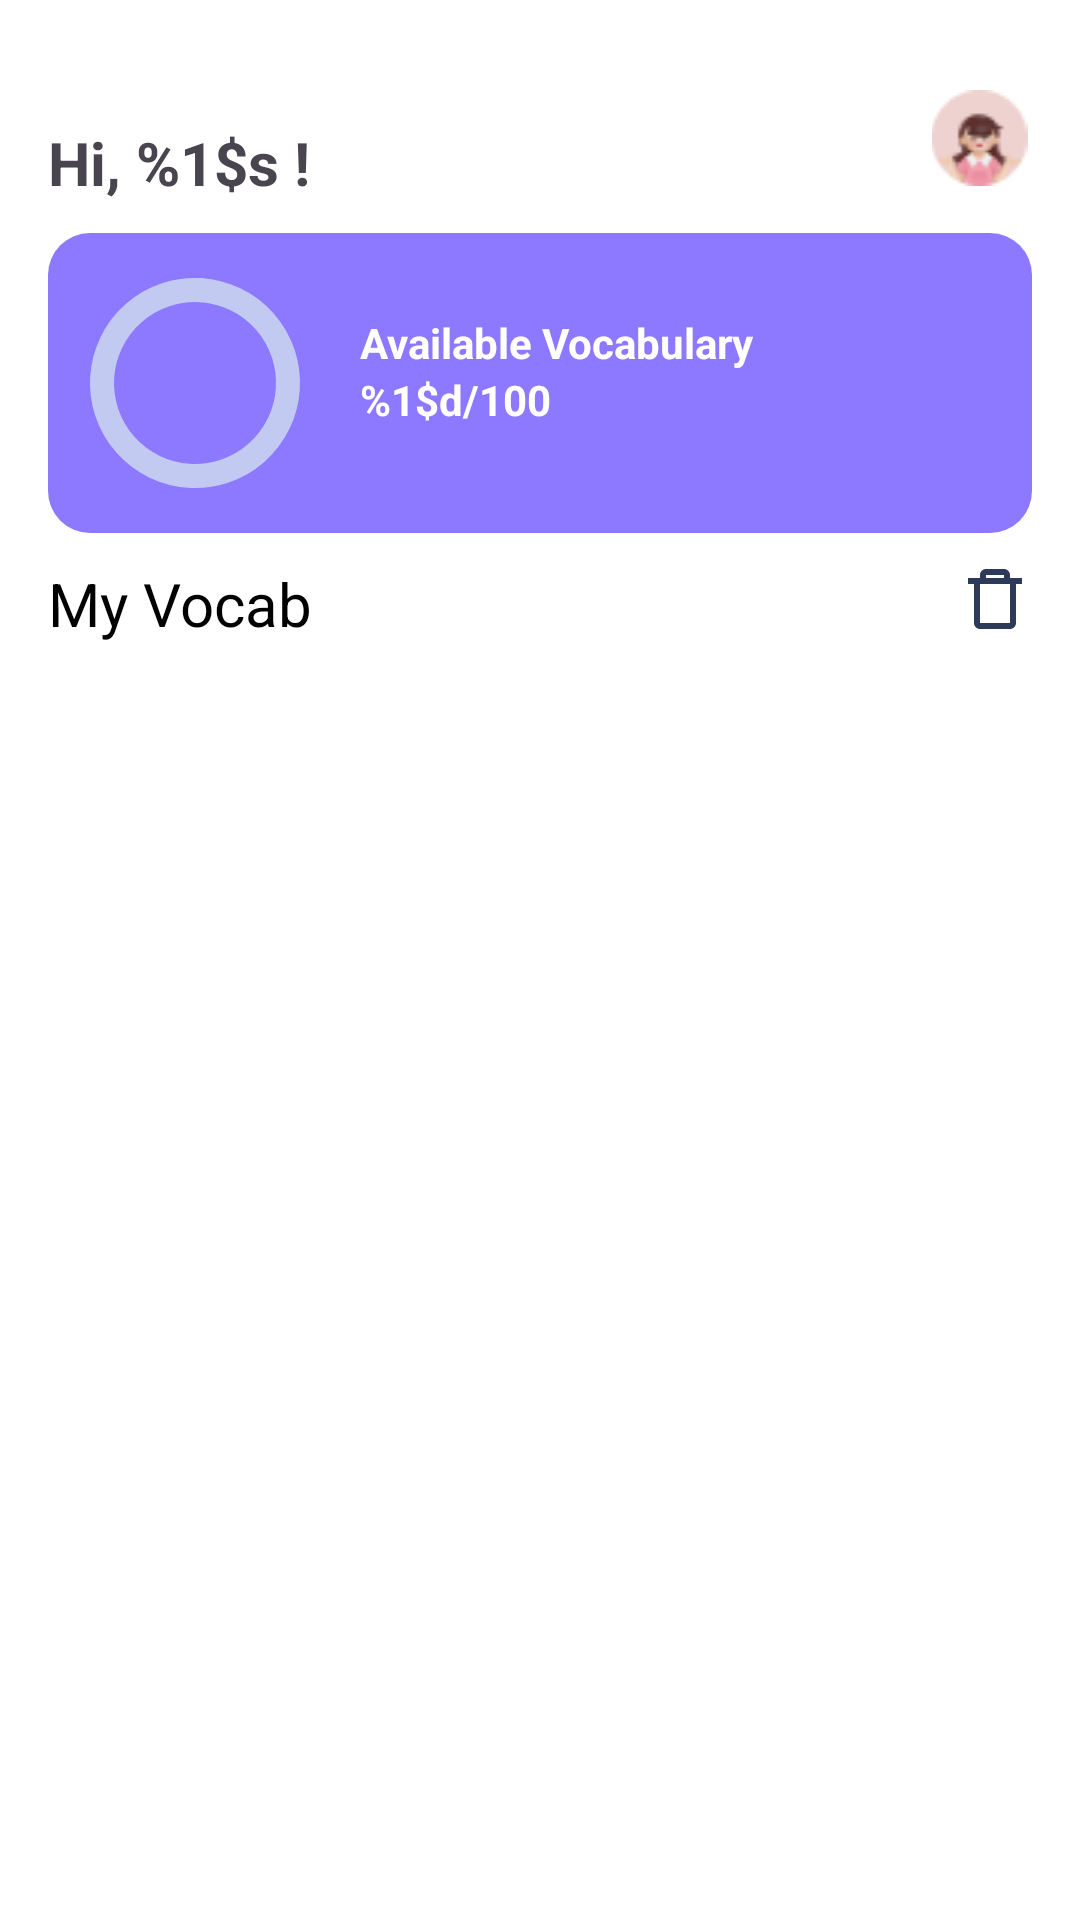

Where to tap for icons on this 1080 × 1920 app screen, as (x=x, y=y):
profile: (x=980, y=138)
trash: (x=995, y=599)
